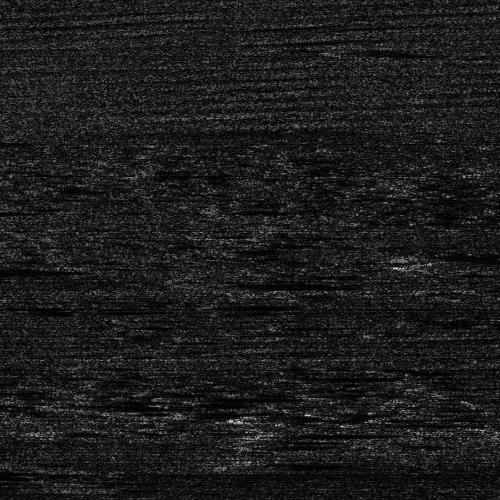object: (2, 395, 117, 412), (383, 260, 500, 273), (219, 458, 312, 465), (201, 267, 212, 302), (234, 431, 287, 436), (239, 442, 292, 447), (407, 250, 428, 261), (164, 393, 227, 396), (294, 372, 325, 377), (331, 43, 342, 56)
shadow: (206, 267, 327, 302), (60, 395, 227, 412), (418, 250, 500, 261), (336, 43, 402, 56), (0, 265, 75, 276), (455, 260, 500, 273), (310, 372, 408, 377), (261, 431, 356, 436), (266, 458, 330, 465), (196, 393, 318, 396), (265, 442, 329, 447), (0, 209, 30, 214), (0, 138, 11, 143)
